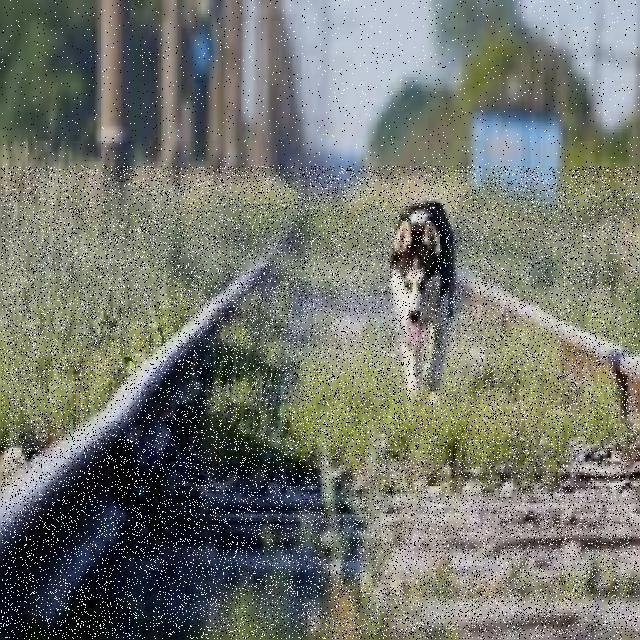rail: (2, 167, 640, 640)
